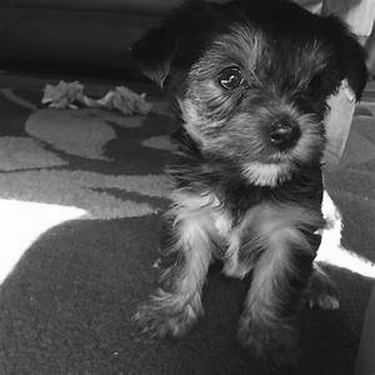dog: (119, 10, 368, 367)
